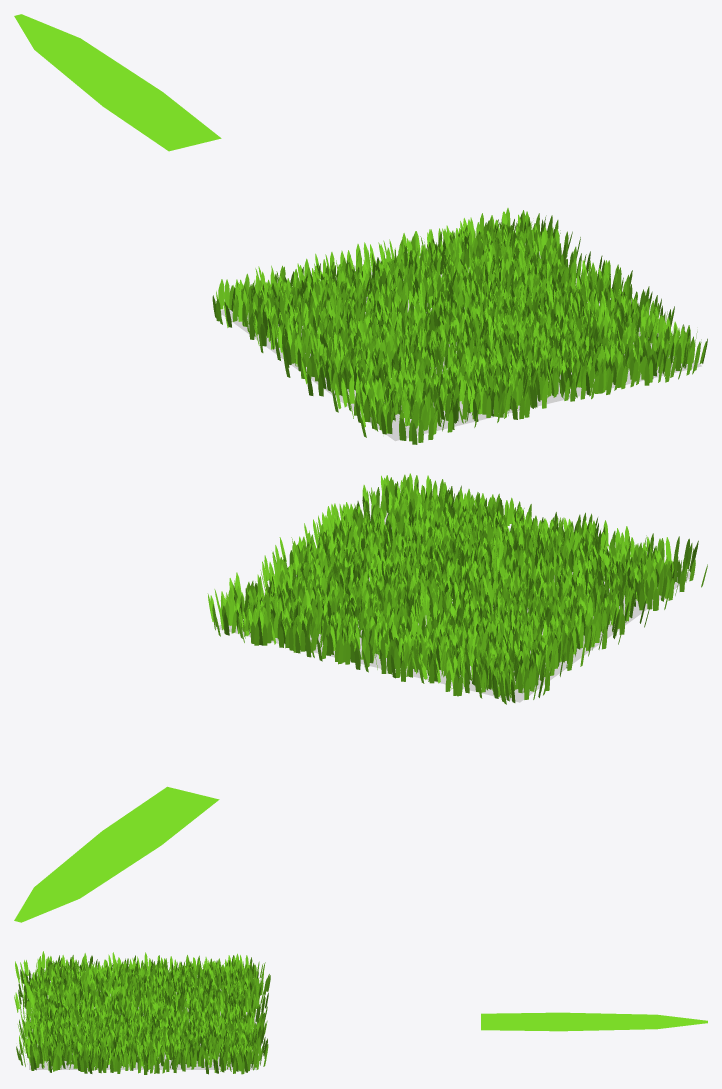
File: grama.fbx
The picture shows the model from 3 angles, top to bottom: view 1: azimuth 30°, elevation 25°; view 2: azimuth 150°, elevation 25°; view 3: azimuth 270°, elevation 25°; orthographic projection. The views are drawn at different scales.
Visible parts, largest first — view 1: Plane.001, Plane; view 2: Plane.001, Plane; view 3: Plane.001, Plane.
Boxes of the visible parts, <box> form: Plane.001: <box>14,14,221,151</box>; Plane: <box>221,243,701,441</box>; Plane.001: <box>14,786,219,922</box>; Plane: <box>216,511,695,702</box>; Plane.001: <box>481,1012,707,1031</box>; Plane: <box>29,974,255,1069</box>.
Bounding box in the file's own units: 229 × 15.18 × 611.
